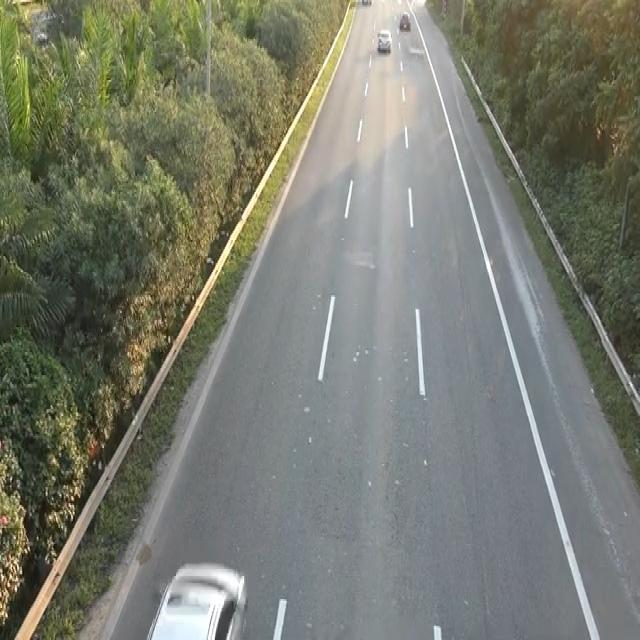bus: (144, 556, 249, 636), (376, 27, 392, 53)
